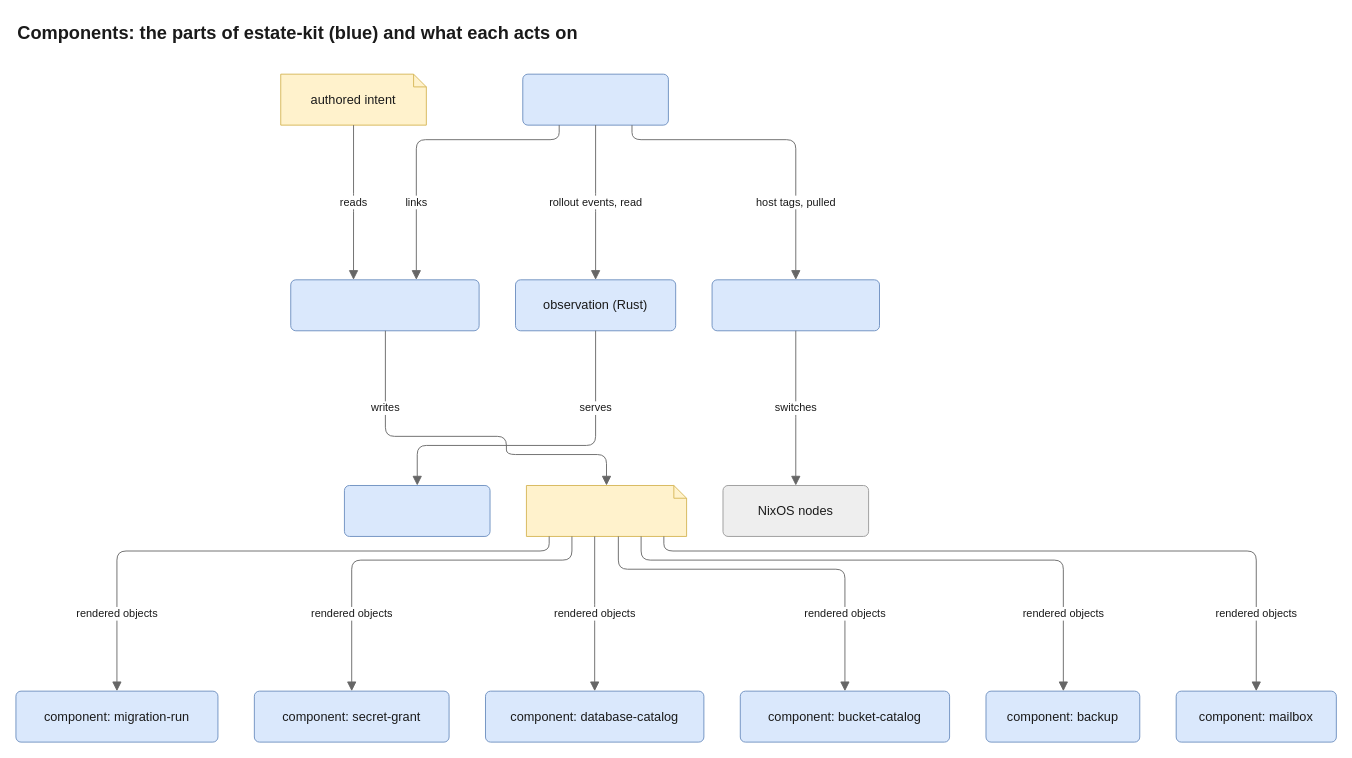
This 1352x758 diagram has some shape labels left out. Here are the shapes that lost their labels. From the top down, the centre of each, then its label:
(595,99): Delivery (Rust)
(384,305): compiler crates (Rust)
(795,305): host applier (Rust)
(417,510): ui (Vue)
(606,510): renders, host data
